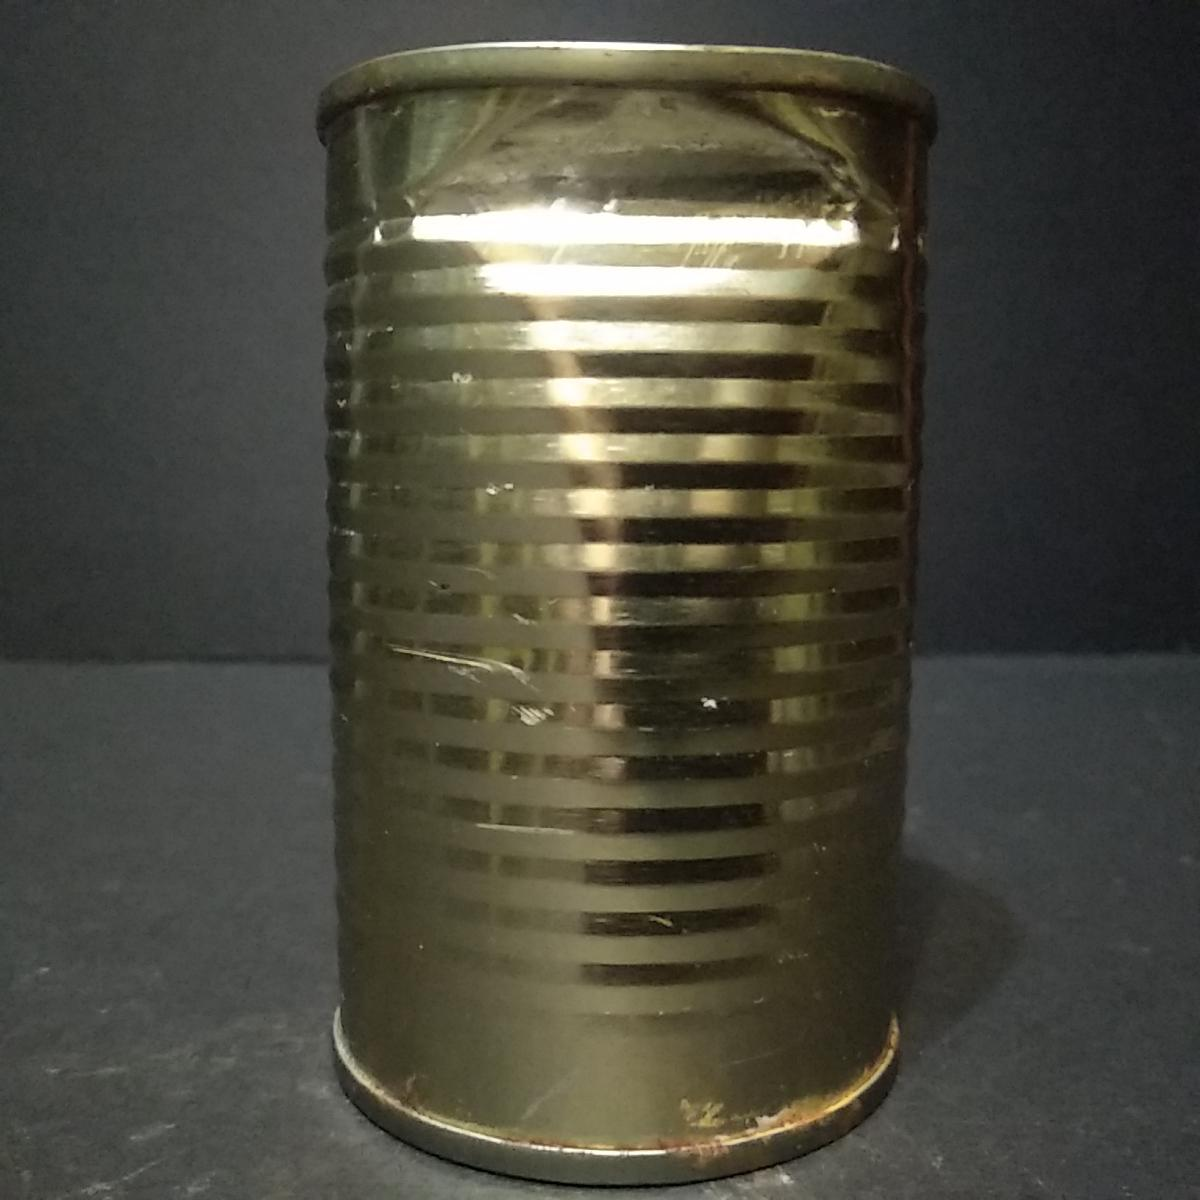Dented: (305, 24, 938, 1182)
